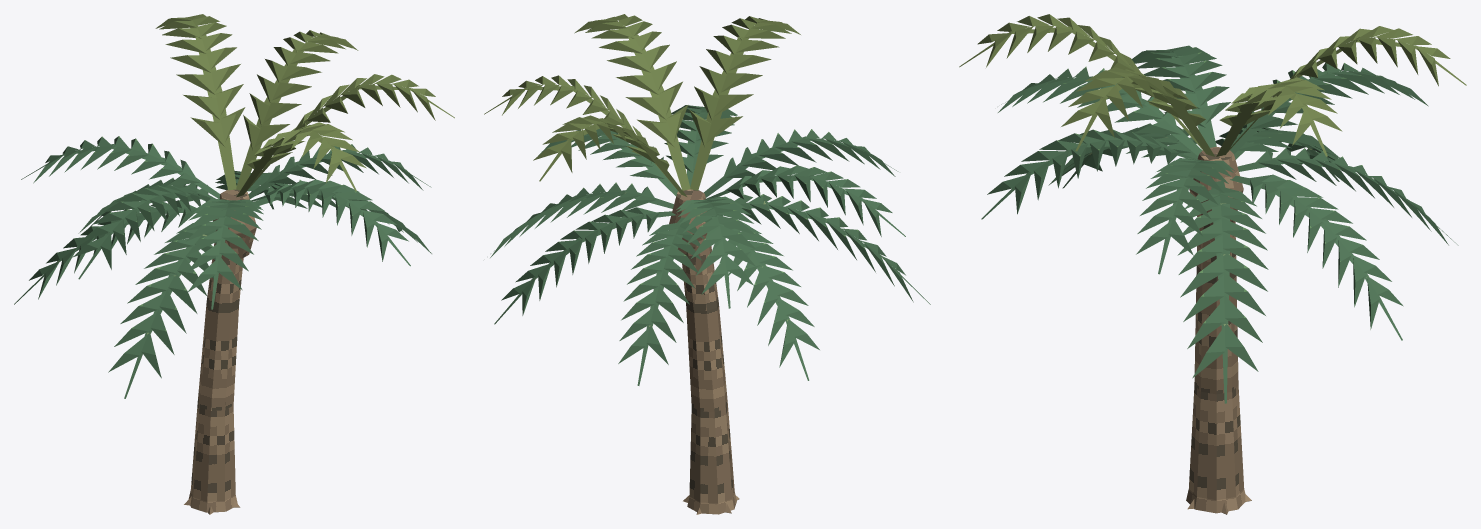
Rendered from pygmy-date.glb.
3 views of the same model, side by side, from view 1: azimuth 30°, elevation 25°; view 2: azimuth 150°, elevation 25°; view 3: azimuth 270°, elevation 25° (orthographic). The views are drawn at different scales.
Parts seen in each view (by area): view 1: crown_pygmy-date, trunk_pygmy-date; view 2: crown_pygmy-date, trunk_pygmy-date; view 3: crown_pygmy-date, trunk_pygmy-date.
Part boxes in pixels (x1,y1,x2,y2): crown_pygmy-date: [14, 14, 454, 398]; trunk_pygmy-date: [184, 189, 256, 514]; crown_pygmy-date: [484, 14, 930, 385]; trunk_pygmy-date: [669, 189, 739, 514]; crown_pygmy-date: [959, 14, 1466, 403]; trunk_pygmy-date: [1186, 146, 1251, 514].
Size of the model in its own units: 3.41 by 3.52 by 3.26.
Materials: 2 (2 with a texture image).
